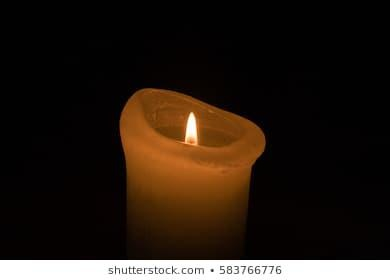fire: (182, 110, 199, 147)
